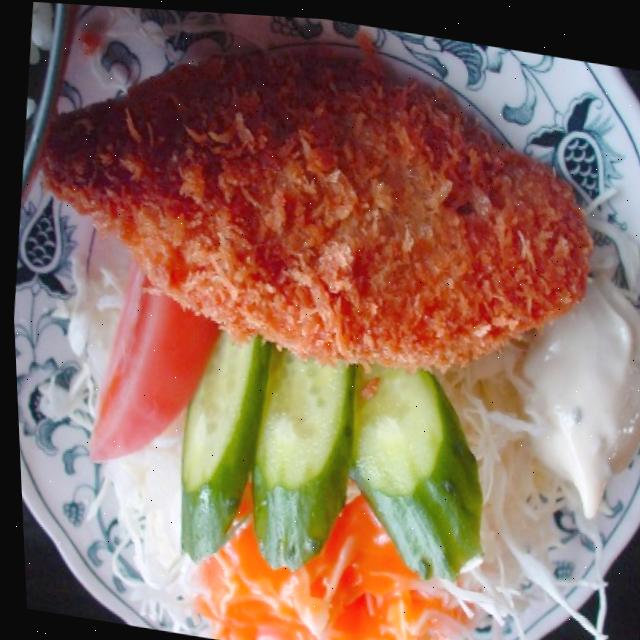炸货点心: (0, 13, 619, 434)
熟制海鲜: (0, 13, 619, 434)
